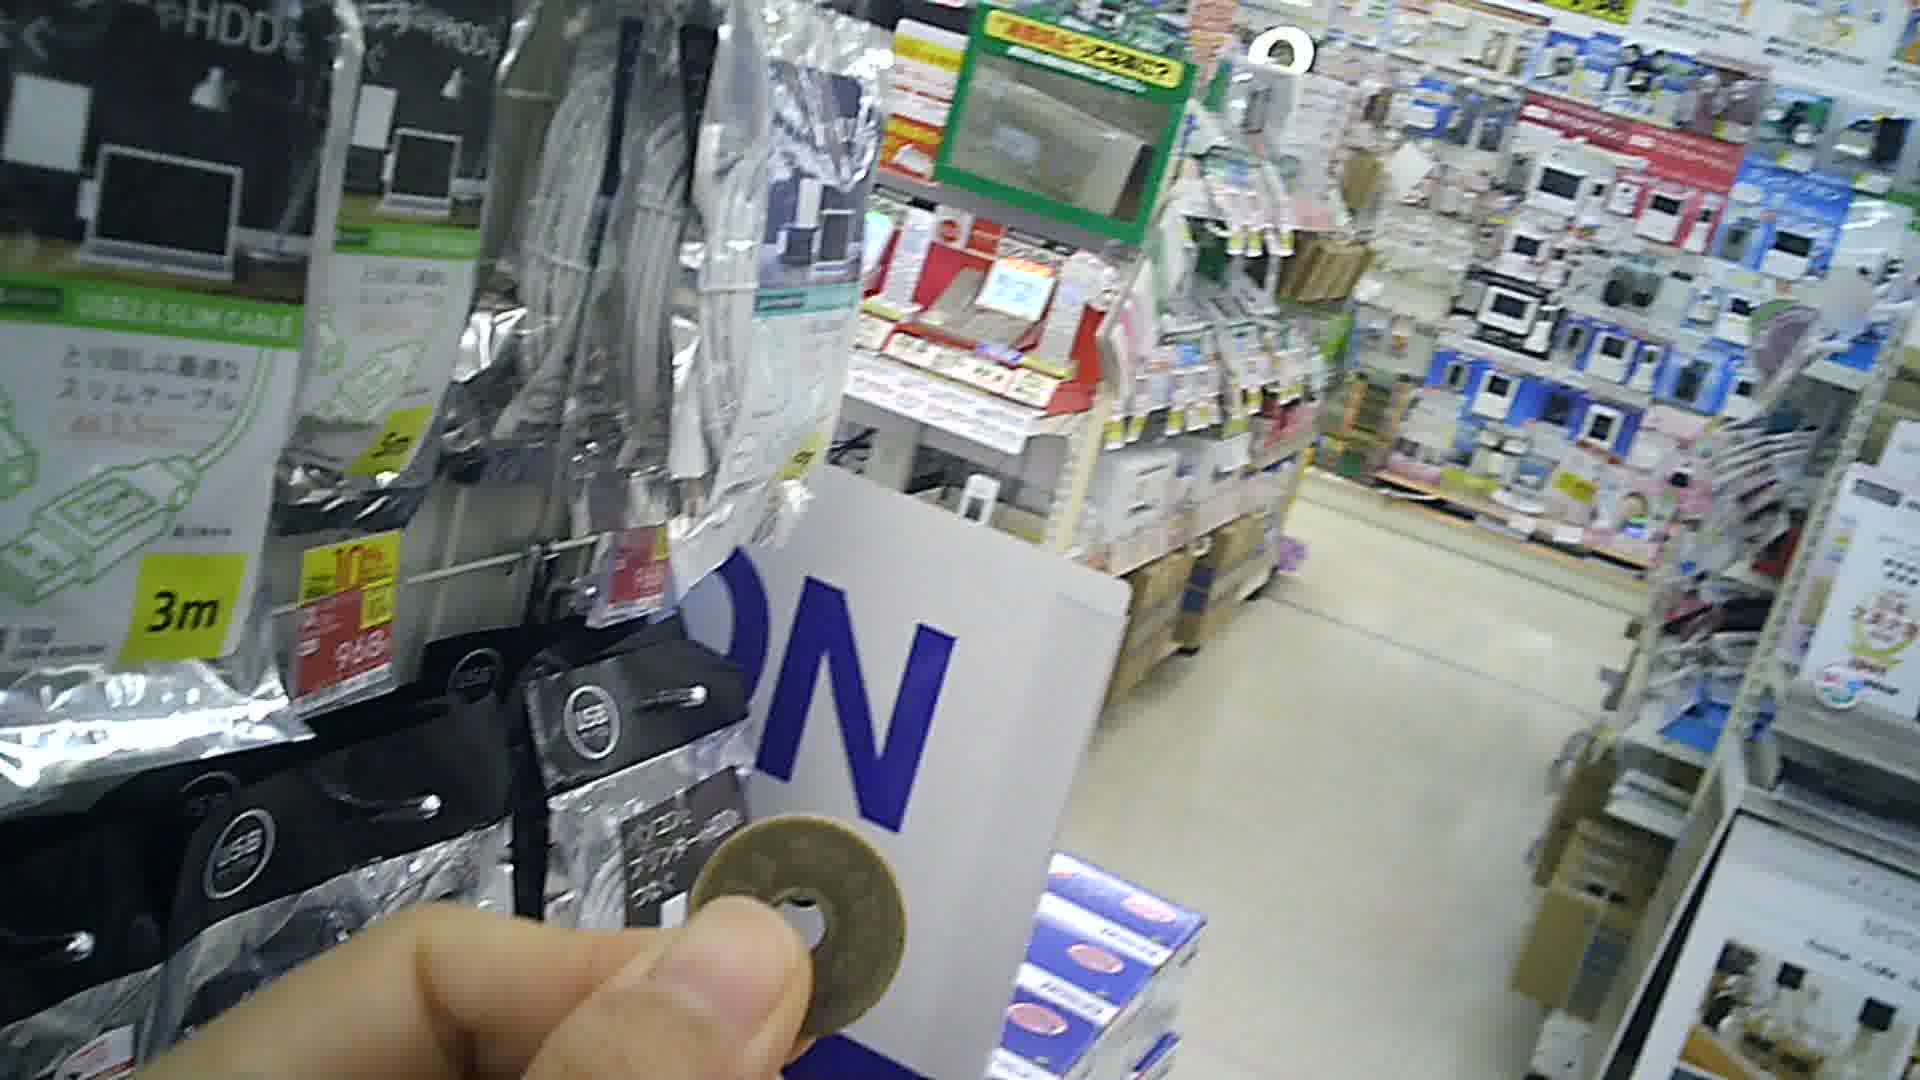5 Yen: (688, 807, 910, 1048)
